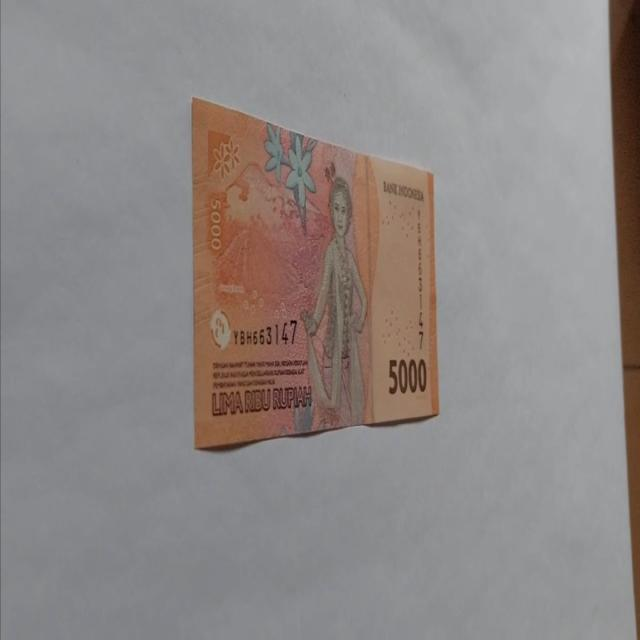lima ribu rupiah: (190, 95, 440, 451), (299, 175, 369, 428)
